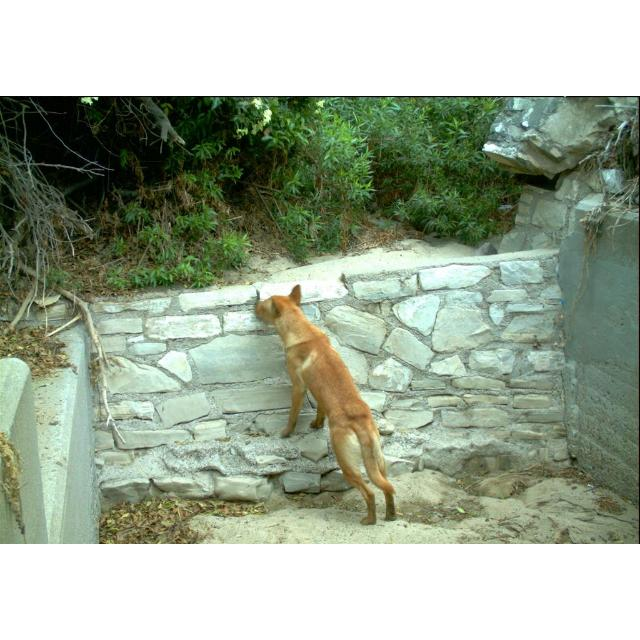animals: (253, 284, 402, 532)
